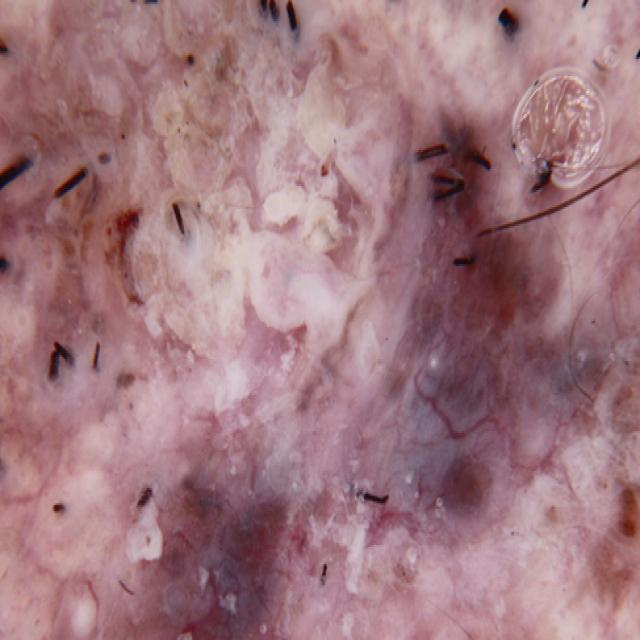Carcinoma: (80, 42, 574, 640)
